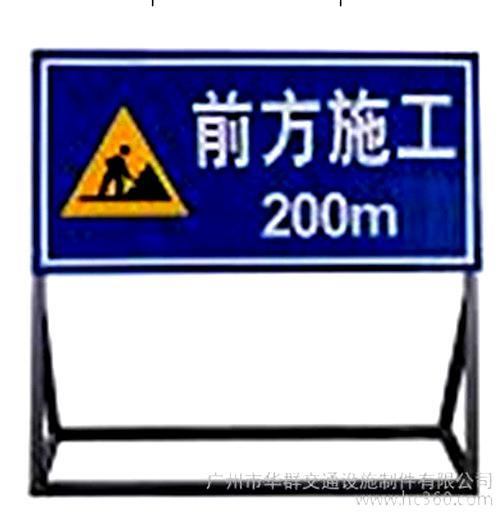sign: (36, 55, 478, 269)
